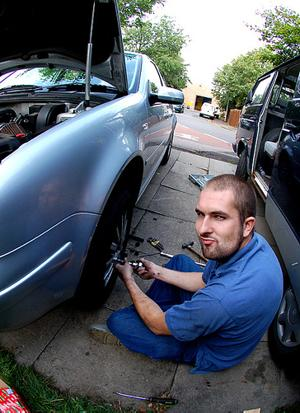person: (87, 171, 284, 373)
